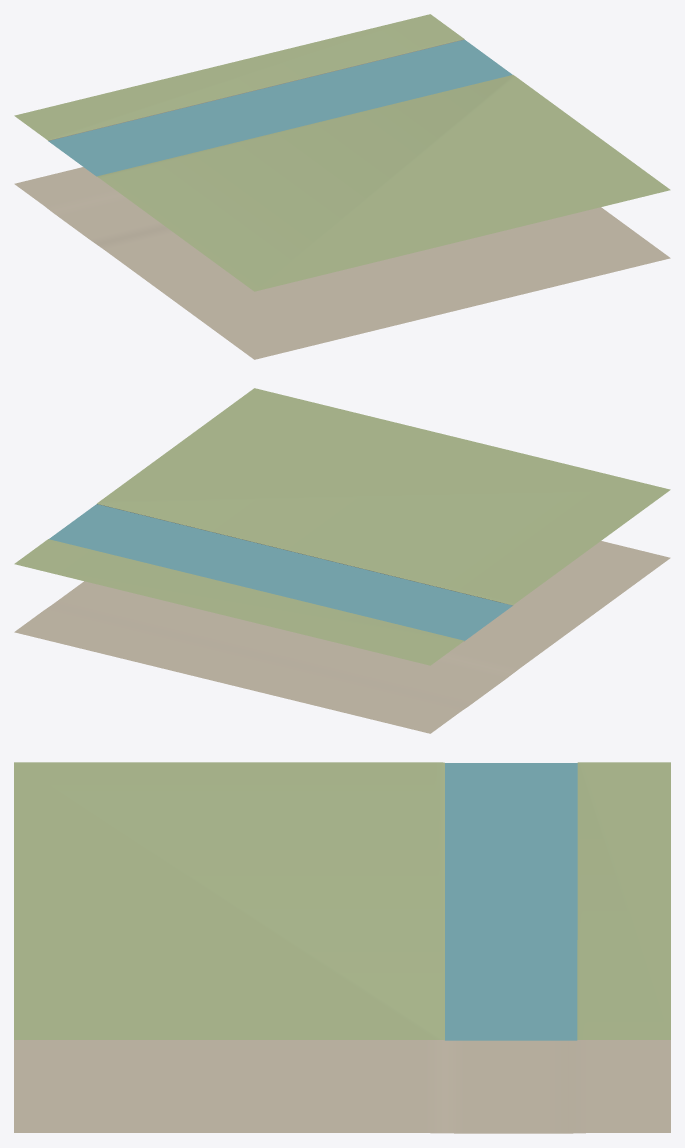
3 views of the same model, one above another, from view 1: azimuth 30°, elevation 25°; view 2: azimuth 150°, elevation 25°; view 3: azimuth 270°, elevation 25° (orthographic). The views are drawn at different scales.
Parts seen in each view (by area): view 1: s_1_-7__grass, s_1_-7__soil, s_1_-7__water; view 2: s_1_-7__grass, s_1_-7__soil, s_1_-7__water; view 3: s_1_-7__grass, s_1_-7__soil, s_1_-7__water.
Part boxes in pixels (x1,y1,x2,y2): s_1_-7__grass: [14, 14, 670, 291]; s_1_-7__soil: [14, 167, 670, 359]; s_1_-7__water: [48, 39, 512, 176]; s_1_-7__grass: [14, 388, 670, 665]; s_1_-7__soil: [14, 541, 670, 733]; s_1_-7__water: [49, 504, 512, 640]; s_1_-7__grass: [14, 762, 670, 1040]; s_1_-7__soil: [14, 1040, 670, 1133]; s_1_-7__water: [445, 763, 577, 1040].
Bounding box in the file's own units: 128 × 20.14 × 128.
